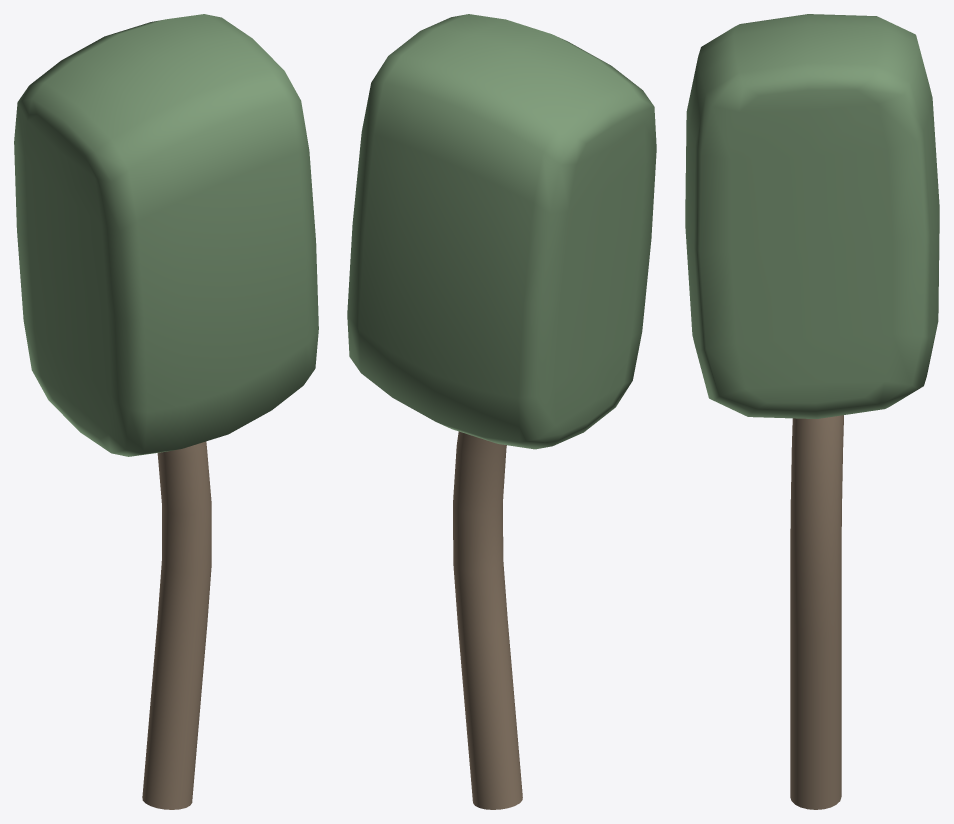
The model's file is Tree_02.fbx.
The picture shows the model from 3 angles, left to right: view 1: azimuth 30°, elevation 25°; view 2: azimuth 150°, elevation 25°; view 3: azimuth 270°, elevation 25°; orthographic projection. The views are drawn at different scales.
Parts seen in each view (by area): view 1: tree_02; view 2: tree_02; view 3: tree_02.
Part boxes in pixels (box(x1,y1,x2,y2)): tree_02: box(14, 14, 318, 809); tree_02: box(347, 14, 656, 809); tree_02: box(685, 14, 939, 809).
Bounding box in the file's own units: 14.14 × 47.23 × 14.13.
